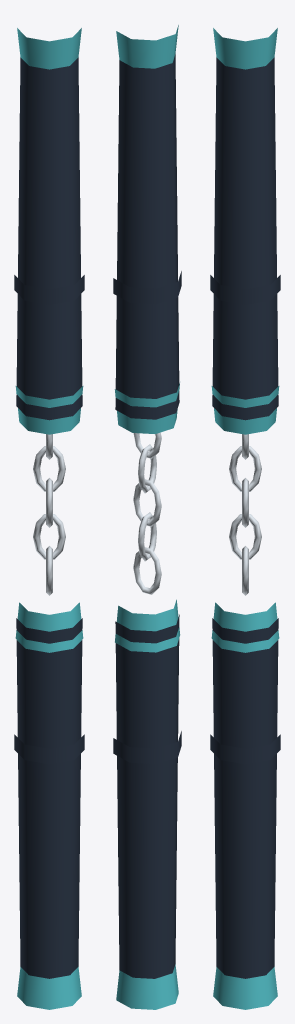
Rendered from nunchucks.glb.
3 views of the same model, side by side, from view 1: azimuth 90°, elevation 25°; view 2: azimuth 150°, elevation 25°; view 3: azimuth 270°, elevation 25° (orthographic).
Parts seen in each view (by area): view 1: chuck-held, chuck-free, chain; view 2: chuck-held, chuck-free, chain; view 3: chuck-held, chuck-free, chain.
Part boxes in pixels (bbox=[...]): chuck-held: bbox=[14, 602, 84, 1009]; chuck-free: bbox=[14, 28, 84, 434]; chain: bbox=[33, 434, 65, 595]; chuck-held: bbox=[113, 599, 181, 1009]; chuck-free: bbox=[113, 25, 181, 433]; chain: bbox=[133, 432, 161, 594]; chuck-held: bbox=[210, 602, 280, 1009]; chuck-free: bbox=[210, 28, 280, 434]; chain: bbox=[229, 434, 261, 595].
Size of the model in its own units: 0.049 by 0.742 by 0.049.
